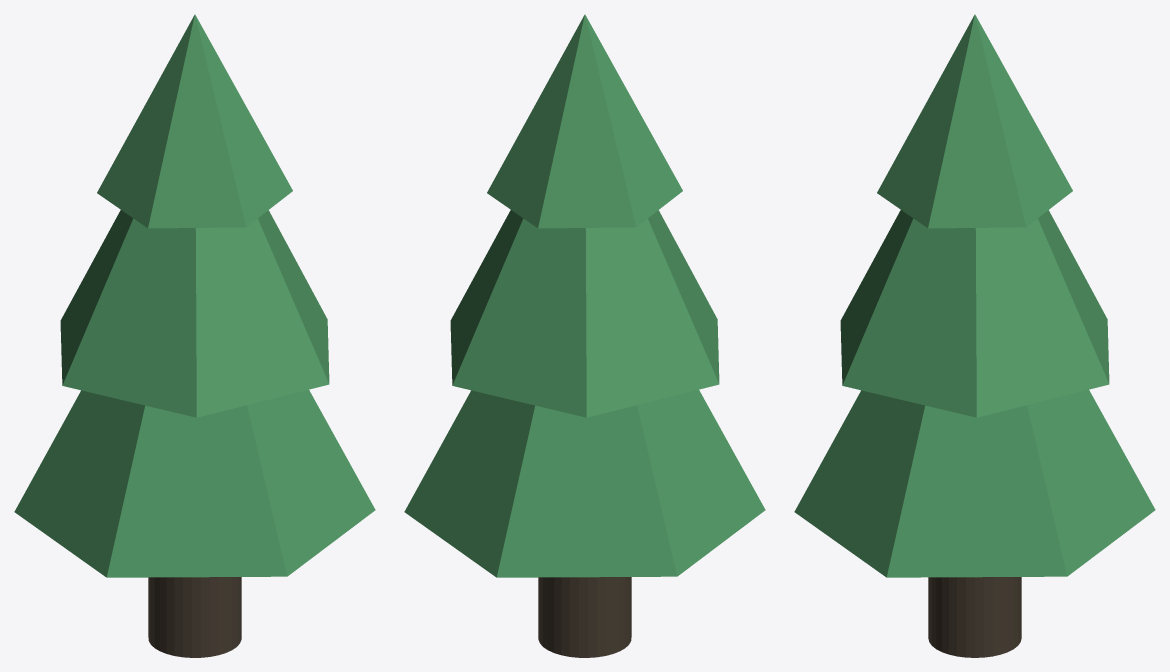
Rendered from Spruce.fbx.
The picture shows the model from 3 angles, left to right: view 1: azimuth 30°, elevation 25°; view 2: azimuth 150°, elevation 25°; view 3: azimuth 270°, elevation 25°; orthographic projection.
Parts seen in each view (by area): view 1: Cone.002; view 2: Cone.002; view 3: Cone.002.
Part boxes in pixels (box(x1,y1,x2,y2)): Cone.002: box(14, 14, 375, 657); Cone.002: box(404, 14, 765, 657); Cone.002: box(794, 14, 1155, 657).
Bounding box in the file's own units: 34.41 × 75.18 × 39.44.
